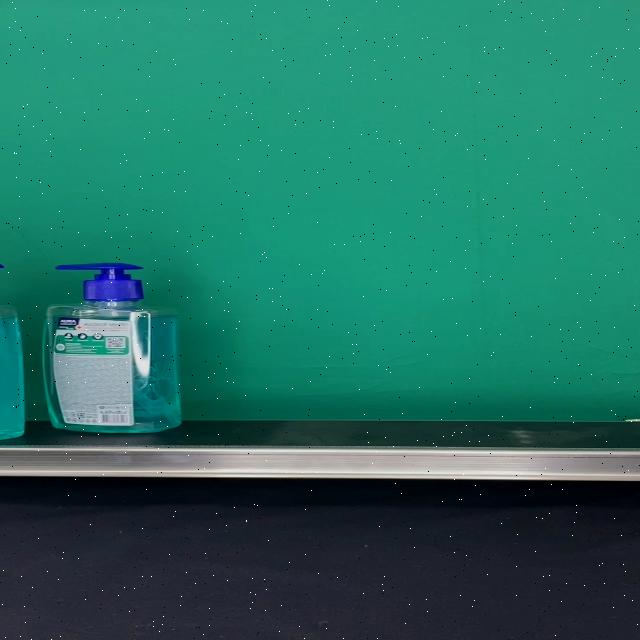Bottle: (43, 262, 182, 433)
Cap: (54, 263, 145, 303)
